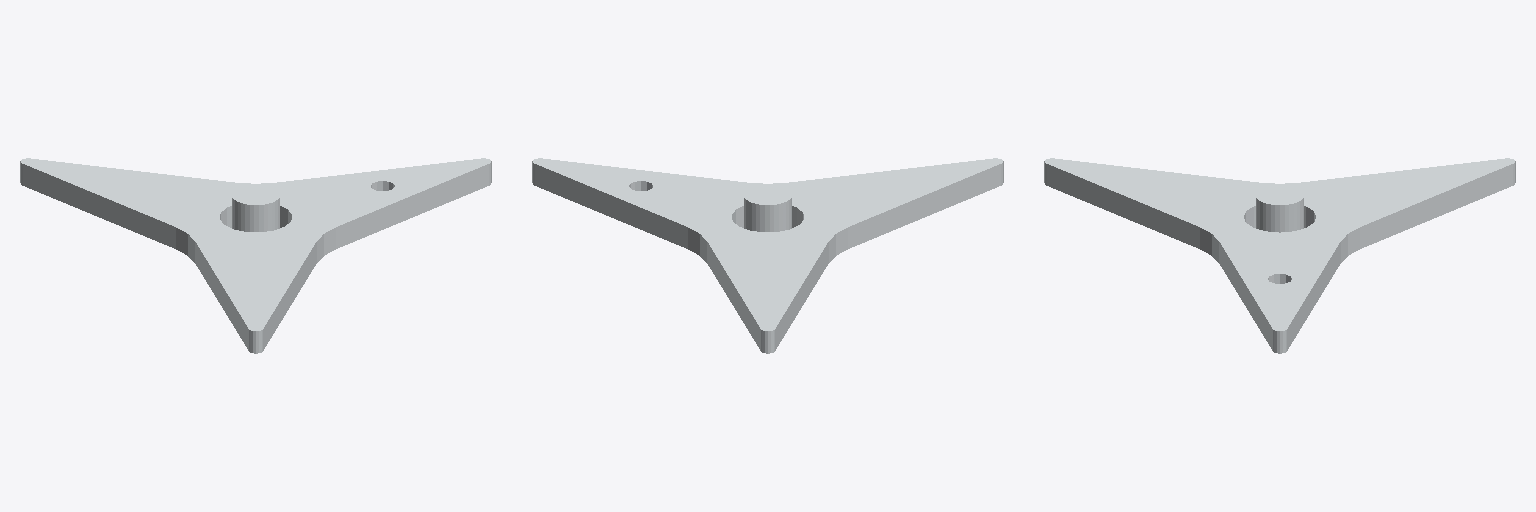
URDF robot description (single_joint):
<?xml version="1.0" encoding="utf-8"?>
<!-- This URDF was automatically created by SolidWorks to URDF Exporter! Originally created by [author] ([email redacted]) 
     Commit Version: 1.5.1-0-g916b5db  Build Version: 1.5.7152.31018
     For more information, please see http://wiki.ros.org/sw_urdf_exporter -->
<robot
  name="single_joint">
  <link
    name="base_link">
    <inertial>
      <origin
        xyz="0 0 0.015"
        rpy="0 0 0" />
      <mass
        value="0.0" />
      <inertia
        ixx="2.5447E-06"
        ixy="0"
        ixz="6.6104E-39"
        iyy="2.5447E-06"
        iyz="-7.3763E-39"
        izz="1.2723E-06" />
    </inertial>
    <visual>
      <origin
        xyz="0 0 0"
        rpy="0 0 0" />
      <geometry>
        <mesh
          filename="meshes/base_link.STL" />
      </geometry>
      <material
        name="">
        <color
          rgba="0.89804 0.91765 0.92941 1" />
      </material>
    </visual>
    <collision>
      <origin
        xyz="0 0 0"
        rpy="0 0 0" />
      <geometry>
        <mesh
          filename="meshes/base_link.STL" />
      </geometry>
    </collision>
  </link>
  <link
    name="rotary_link">
    <inertial>
      <origin
        xyz="-0.0005312 9.9464E-17 0"
        rpy="0 0 0" />
      <mass
        value="0.23952" />
      <inertia
        ixx="0.00036561"
        ixy="2.4475E-18"
        ixz="-1.9394E-21"
        iyy="0.00035791"
        iyz="1.9489E-21"
        izz="0.00071953" />
    </inertial>
    <visual>
      <origin
        xyz="0 0 0"
        rpy="0 0 0" />
      <geometry>
        <mesh
          filename="meshes/rotary_link.STL" />
      </geometry>
      <material
        name="">
        <color
          rgba="0.89804 0.91765 0.92941 1" />
      </material>
    </visual>
    <collision>
      <origin
        xyz="0 0 0"
        rpy="0 0 0" />
      <geometry>
        <mesh
          filename="meshes/rotary_link.STL" />
      </geometry>
    </collision>
  </link>
  <joint
    name="joint0"
    type="continuous">
    <origin
      xyz="0 0 0.015"
      rpy="0 0 0" />
    <parent
      link="base_link" />
    <child
      link="rotary_link" />
    <axis
      xyz="0 0 1" />
  </joint>
</robot>

--- What the picture shows (computed from the rendered views, not written in the file) ---
The picture shows the robot from 3 angles, left to right: view 1: azimuth 30°, elevation 25°; view 2: azimuth 150°, elevation 25°; view 3: azimuth 270°, elevation 25°; orthographic projection.
Model single_joint with 2 links and 1 joints (1 continuous), rooted at base_link, posed all joints at 0.
Links seen in each view (by area): view 1: rotary_link, base_link; view 2: rotary_link, base_link; view 3: rotary_link, base_link.
Link boxes in pixels (x1=…): rotary_link: x1=20, y1=158, x2=491, y2=353; base_link: x1=232, y1=185, x2=279, y2=231; rotary_link: x1=532, y1=158, x2=1003, y2=353; base_link: x1=744, y1=185, x2=791, y2=231; rotary_link: x1=1044, y1=158, x2=1515, y2=353; base_link: x1=1256, y1=185, x2=1303, y2=232.
Bounding box of the posed robot: 0.168 × 0.193 × 0.03 m (x, y, z).
2 mesh visuals loaded from 2 distinct referenced files (2 binary STL).